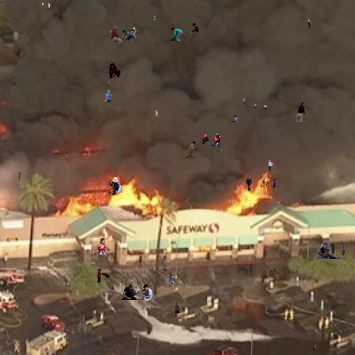Human: (167, 141, 197, 159), (97, 265, 127, 283), (316, 242, 347, 259), (170, 23, 199, 41), (121, 284, 153, 300), (110, 26, 135, 46), (246, 176, 277, 191), (91, 201, 113, 221), (91, 238, 110, 256), (202, 133, 222, 147), (108, 177, 123, 195), (295, 101, 306, 122), (108, 63, 121, 79), (175, 301, 188, 315), (105, 89, 113, 102), (254, 103, 268, 110), (130, 26, 137, 38), (42, 2, 51, 9), (268, 160, 273, 172), (307, 17, 312, 29), (231, 115, 238, 123), (169, 276, 176, 284), (17, 171, 22, 180), (242, 98, 246, 106), (155, 110, 159, 117), (153, 15, 157, 21), (313, 344, 316, 350), (107, 81, 110, 86), (220, 149, 223, 153), (297, 253, 299, 258)
